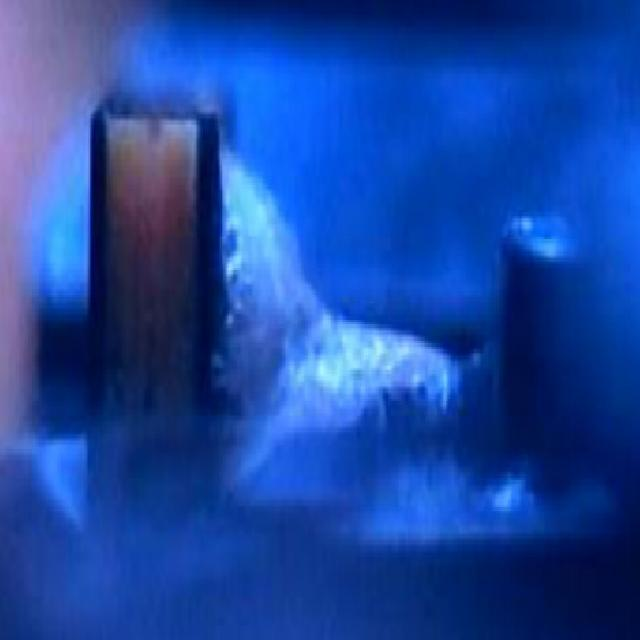Component: (82, 83, 230, 426)
Solder: (206, 111, 470, 447)
